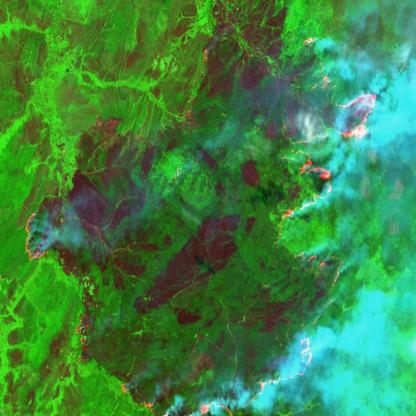fire: (282, 32, 381, 226), (118, 329, 315, 416), (18, 206, 56, 269)
